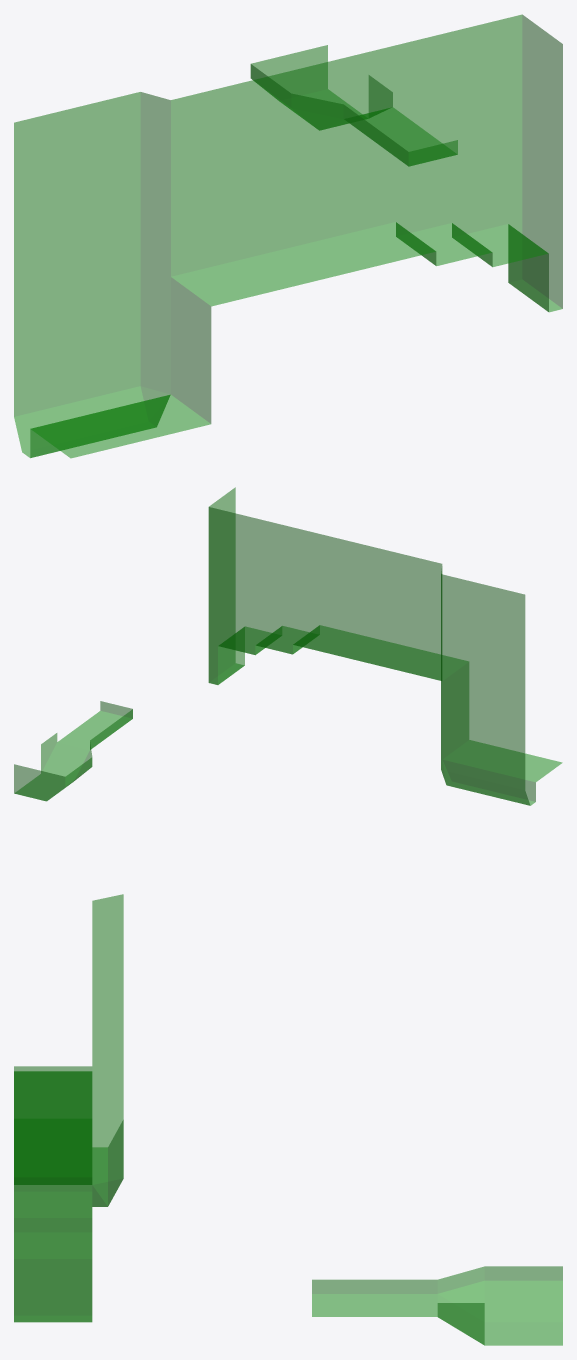
The model's file is D10_wall02.obj.
The picture shows the model from 3 angles, top to bottom: view 1: azimuth 30°, elevation 25°; view 2: azimuth 150°, elevation 25°; view 3: azimuth 270°, elevation 25°; orthographic projection. The views are drawn at different scales.
Bounding box in the file's own units: 38.5 × 22 × 35.
